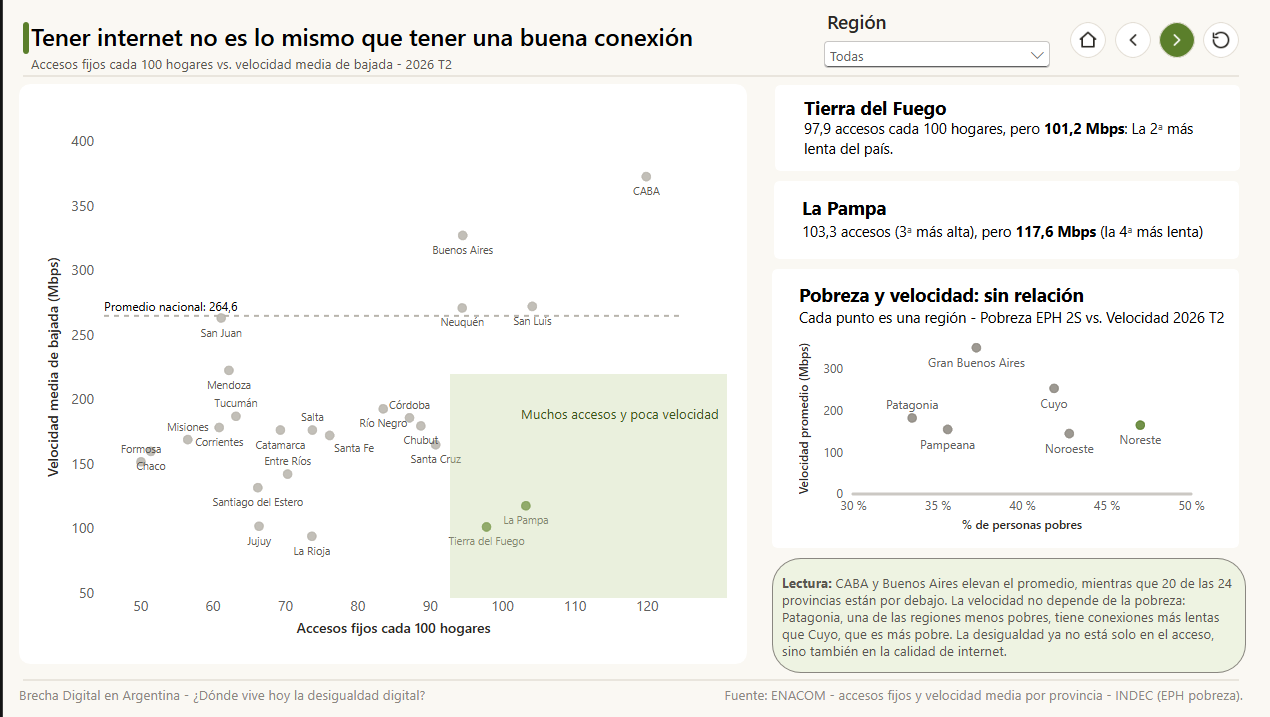

The dashboard page shown, as its layout file describes it:
{"tool":"powerbi","page":{"name":"3.Calidad","canvas":[1280,720],"ordinal":3},"visuals":[{"type":"textbox","box":[39.8,22.4,687.4,40.8],"z":0},{"type":"shape","box":[833.6,106.1,423.4,130.2],"z":0,"group":"g3"},{"type":"shape","box":[828.2,259.3,423.4,130.2],"z":0,"group":"g4"},{"type":"shape","box":[833.6,420.1,423.4,130.2],"z":0,"group":"g1"},{"type":"shape","box":[831.5,574.4,424.9,37.2],"z":0,"group":"g2"},{"type":"textbox","box":[39.8,57.1,562,25.5],"z":1000},{"type":"textbox","box":[842.6,576.8,403,33.5],"z":1000,"group":"g2"},{"type":"actionButton","box":[1079.1,24.5,36,36],"z":2000},{"type":"textbox","box":[854,130.8,377.4,37.2],"z":2000,"group":"g3"},{"type":"textbox","box":[848.6,284,377.4,37.2],"z":2000,"group":"g4"},{"type":"textbox","box":[854.8,446.2,20.8,36.1],"z":2000,"group":"g1"},{"type":"actionButton","box":[1124,24,36,36],"z":3000},{"type":"textbox","box":[852.2,174.3,367.6,45.5],"z":3000,"group":"g3"},{"type":"textbox","box":[846.6,326.8,385.1,45.9],"z":3000,"group":"g4"},{"type":"textbox","box":[852.6,487.8,378.5,45.9],"z":3000,"group":"g1"},{"type":"actionButton","box":[1168,24,36,36],"z":4000},{"type":"actionButton","box":[1212,24,36,36],"z":5000},{"type":"textbox","box":[28,687.8,421.2,28],"z":6000},{"type":"textbox","box":[652,688,600,28],"z":7000},{"type":"shape","box":[27.3,104,760.9,570.6],"z":8000},{"type":"group","id":"g1","title":"Grupo 1","box":[833.6,420.1,423.4,130.2],"z":9000},{"type":"group","id":"g2","title":"Grupo 2","box":[831.5,574.4,424.5,37.2],"z":10000},{"type":"slicer","fields":{"Values":["dim_Provincias.Region"]},"box":[828.2,10.9,236.3,62.4],"z":11000},{"type":"scatterChart","fields":{"Category":["dim_Provincias.Provincia"],"X":["Sum(fact_Accesos.Accesos_100hogares)"],"Y":["Sum(fact_Velocidad.Velocidad_Mbps)"]},"box":[40.5,118.2,735.2,514.2],"z":13000},{"type":"group","id":"g3","title":"Grupo 1","box":[833.6,106.1,423.4,130.2],"z":14000},{"type":"shape","box":[502.2,350.1,260.4,224.3],"z":15000},{"type":"group","id":"g4","title":"Grupo 1","box":[828.2,259.3,423.4,130.2],"z":16000},{"type":"textbox","box":[529.5,407,205.7,25.2],"z":17000},{"type":"cardVisual","fields":{"Data":["Medidas.Veces velocidad CABA vs La Rioja"]},"box":[865.4,425.6,67.8,60.2],"z":18000}]}

Visuals, with their boxes in screenshot pixels (x1, y1, x2, y2), scaled from the page's 1280x720 canvas onto the 1270x717 screenshot:
textbox: (x1=39, y1=22, x2=722, y2=63)
shape: (x1=827, y1=106, x2=1247, y2=235)
shape: (x1=822, y1=258, x2=1242, y2=388)
shape: (x1=827, y1=418, x2=1247, y2=548)
shape: (x1=825, y1=572, x2=1247, y2=609)
textbox: (x1=39, y1=57, x2=597, y2=82)
textbox: (x1=836, y1=574, x2=1236, y2=608)
actionButton: (x1=1071, y1=24, x2=1106, y2=60)
textbox: (x1=847, y1=130, x2=1222, y2=167)
textbox: (x1=842, y1=283, x2=1216, y2=320)
textbox: (x1=848, y1=444, x2=869, y2=480)
actionButton: (x1=1115, y1=24, x2=1151, y2=60)
textbox: (x1=846, y1=174, x2=1210, y2=219)
textbox: (x1=840, y1=325, x2=1222, y2=371)
textbox: (x1=846, y1=486, x2=1221, y2=531)
actionButton: (x1=1159, y1=24, x2=1195, y2=60)
actionButton: (x1=1203, y1=24, x2=1238, y2=60)
textbox: (x1=28, y1=685, x2=446, y2=713)
textbox: (x1=647, y1=685, x2=1242, y2=713)
shape: (x1=27, y1=104, x2=782, y2=672)
"Grupo 1" group: (x1=827, y1=418, x2=1247, y2=548)
"Grupo 2" group: (x1=825, y1=572, x2=1246, y2=609)
slicer - dim_Provincias.Region: (x1=822, y1=11, x2=1056, y2=73)
scatterChart - dim_Provincias.Provincia x Sum(fact_Accesos.Accesos_100hogares): (x1=40, y1=118, x2=770, y2=630)
"Grupo 1" group: (x1=827, y1=106, x2=1247, y2=235)
shape: (x1=498, y1=349, x2=757, y2=572)
"Grupo 1" group: (x1=822, y1=258, x2=1242, y2=388)
textbox: (x1=525, y1=405, x2=729, y2=430)
cardVisual - Medidas.Veces velocidad CABA vs La Rioja: (x1=859, y1=424, x2=926, y2=484)
